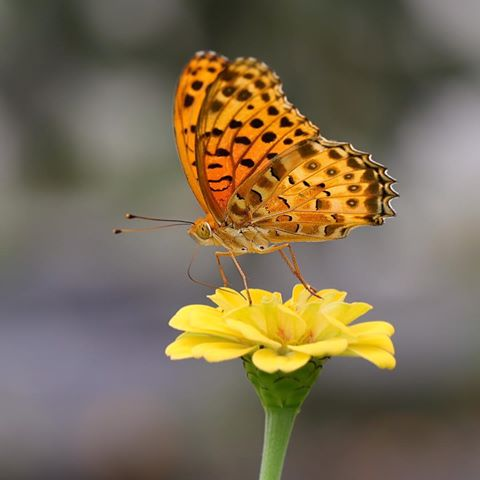Argyreus hyperbius: (111, 46, 404, 302)
butterfly: (113, 48, 406, 304)
